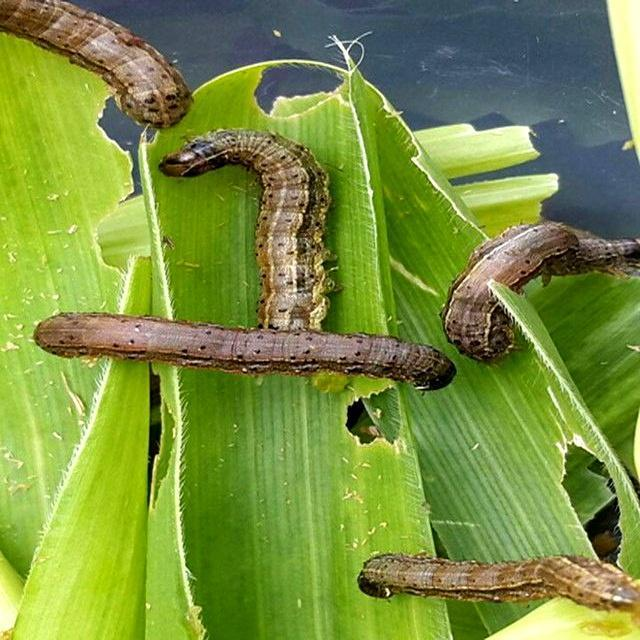gusano_cogollero: (28, 312, 456, 402), (6, 0, 192, 132)
